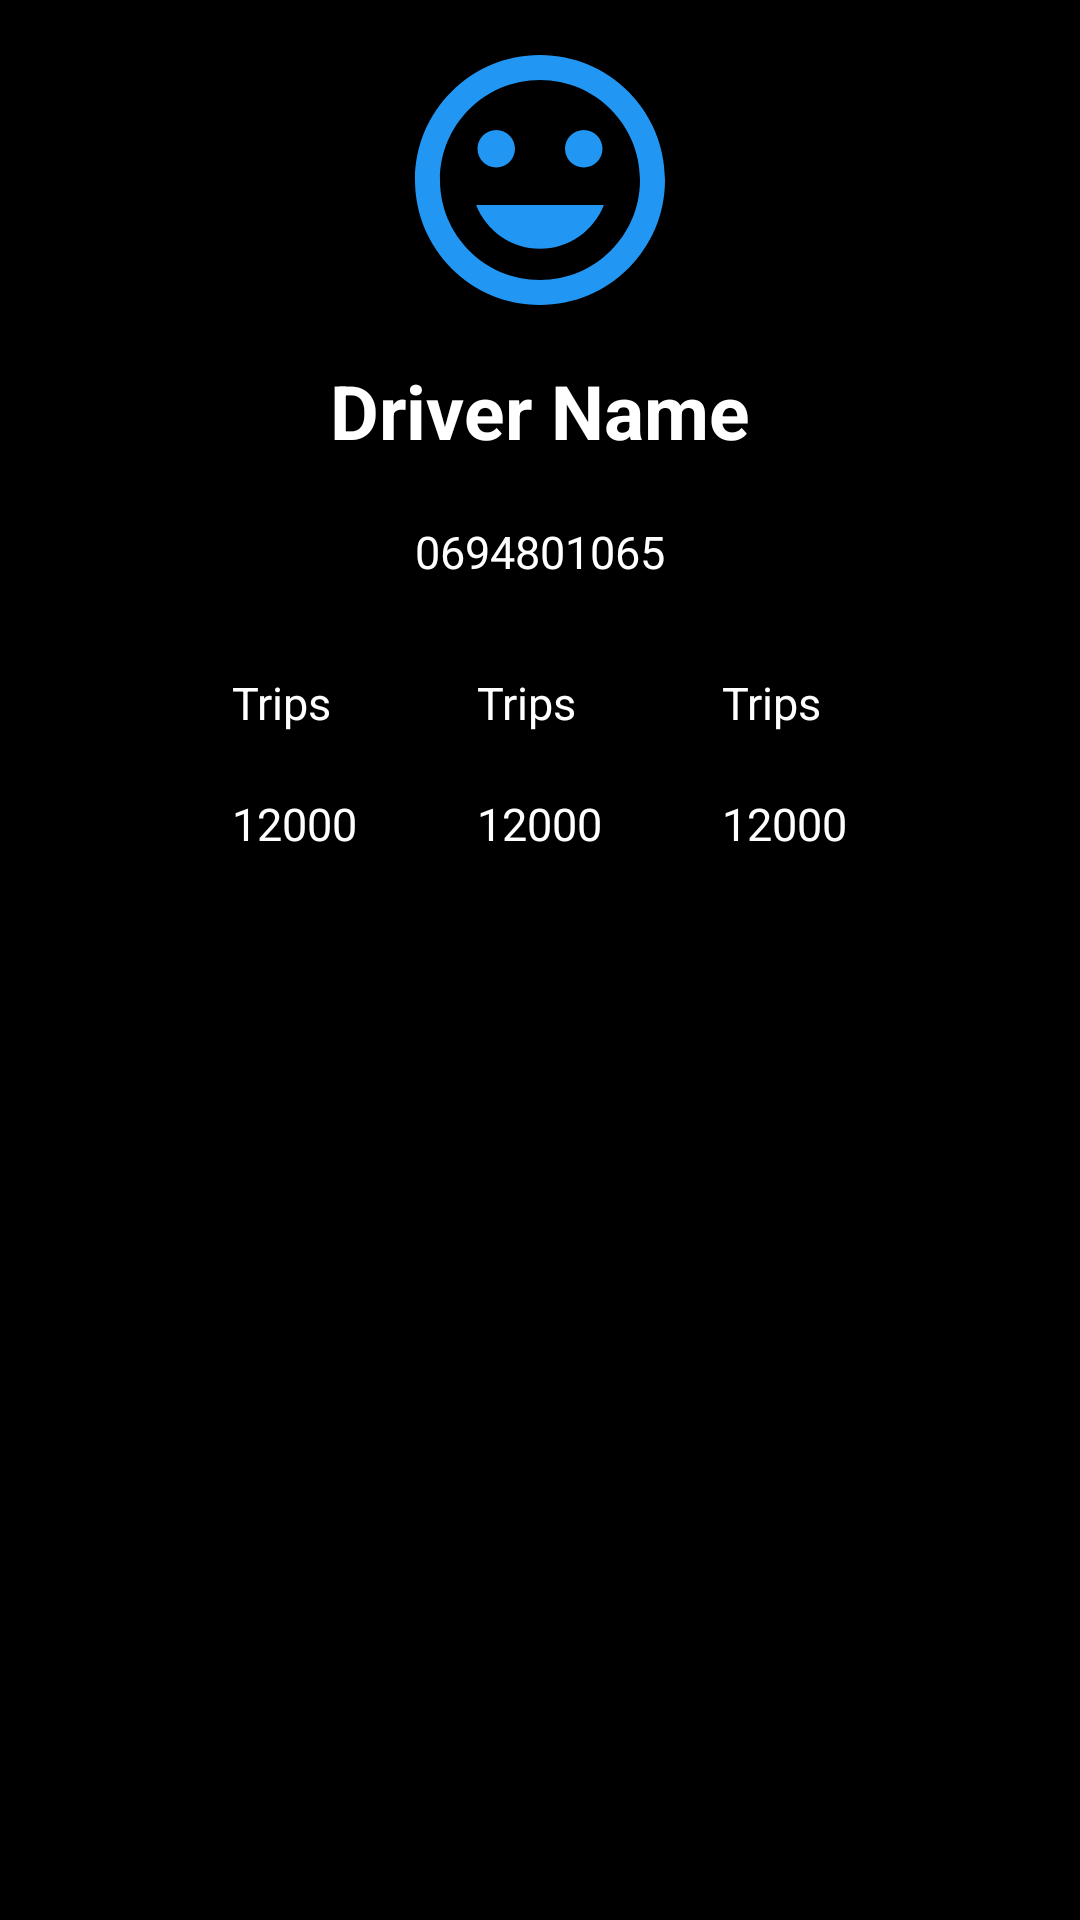

Icon bounding boxes for this 1080w x 1920h phone screenshot, format Rect(x1, y1, x2, y2):
tag faces: Rect(415, 55, 665, 305)
